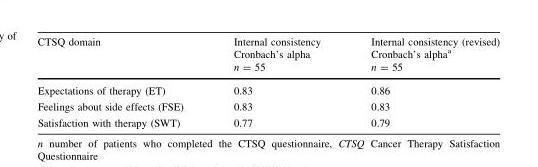table: (36, 36, 499, 127)
table column: (36, 36, 207, 127), (345, 36, 499, 127), (207, 36, 345, 127)
table column header: (36, 36, 499, 78)
table row: (36, 78, 499, 98), (36, 60, 499, 78), (36, 98, 499, 114), (36, 46, 499, 60), (36, 114, 499, 127), (36, 36, 499, 46)
table spanning cell: (36, 36, 207, 78), (345, 36, 499, 78), (207, 36, 345, 78)
